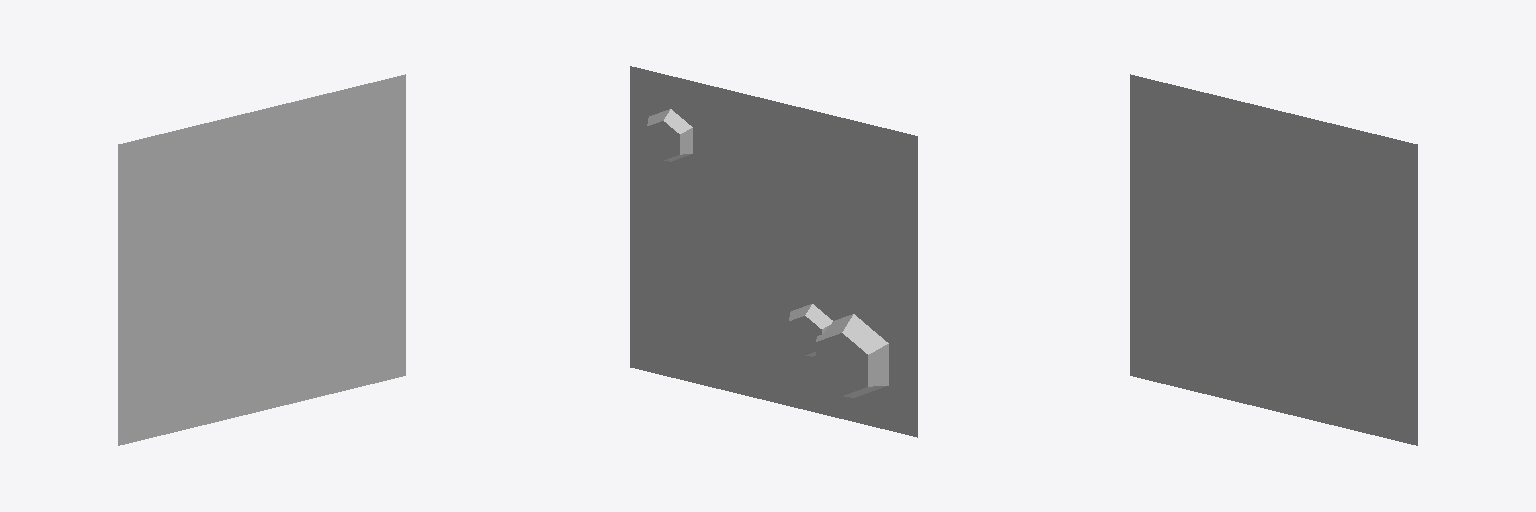
File: floor-detail.001.obj
3 renders of one model, left to right at view 1: azimuth 30°, elevation 25°; view 2: azimuth 150°, elevation 25°; view 3: azimuth 330°, elevation 25°, orthographic.
Visible parts, largest first — view 1: floor-detail; view 2: floor-detail; view 3: floor-detail.
Part boxes in pixels (bbox=[...]): floor-detail: bbox=[118, 74, 405, 445]; floor-detail: bbox=[630, 66, 917, 437]; floor-detail: bbox=[1130, 74, 1417, 445].
Size of the model in its own units: 1 by 1 by 0.07.